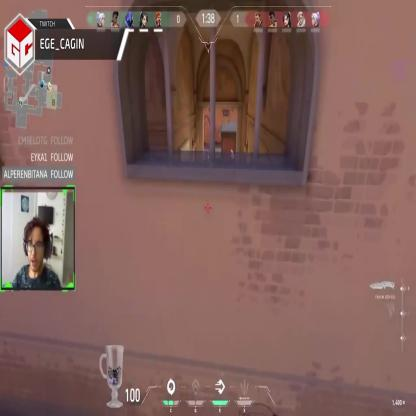enemy: (229, 147, 236, 180)
enemy_head: (230, 149, 233, 155)
